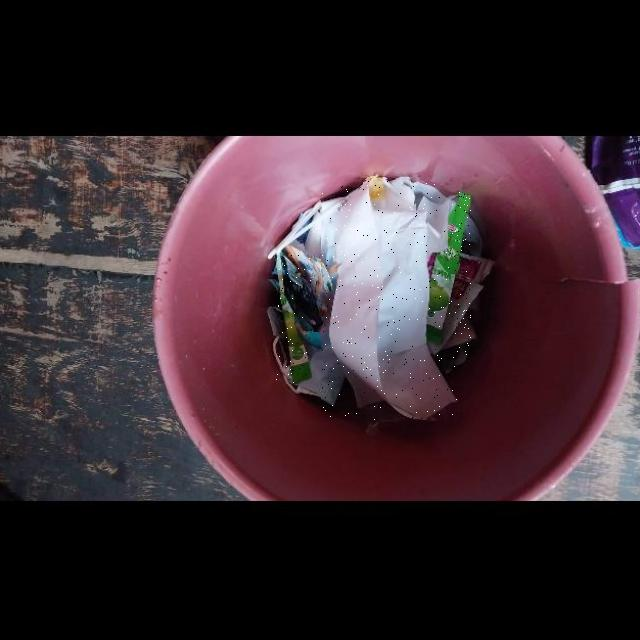paper: (322, 179, 457, 419)
wrapper: (427, 191, 471, 354), (276, 254, 312, 384)
